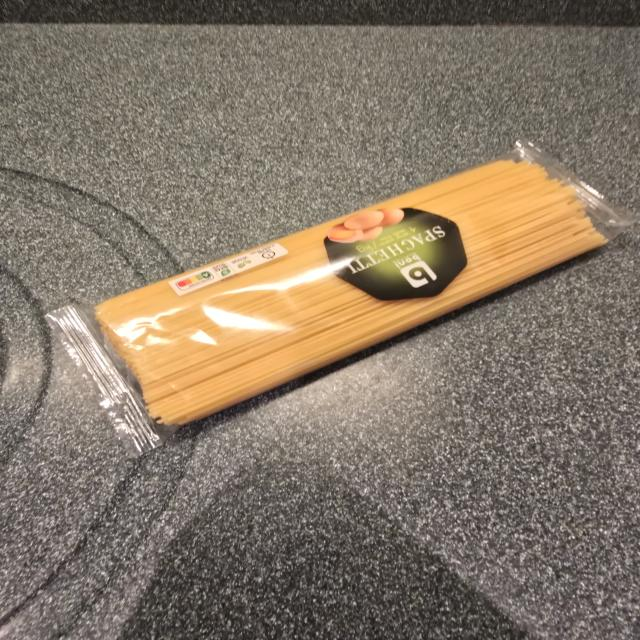Pasta: (95, 143, 636, 424)
